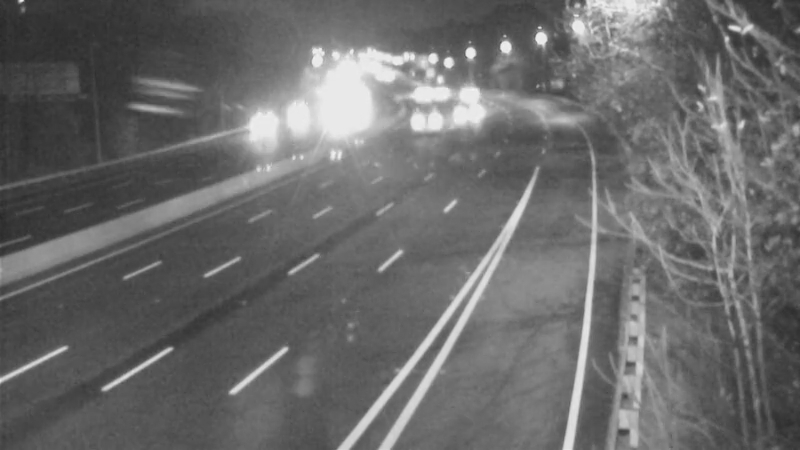vehicle: (445, 65, 495, 115), (420, 71, 470, 121), (397, 71, 447, 121), (438, 88, 488, 138), (396, 98, 446, 148), (231, 96, 281, 146), (274, 86, 324, 136)
